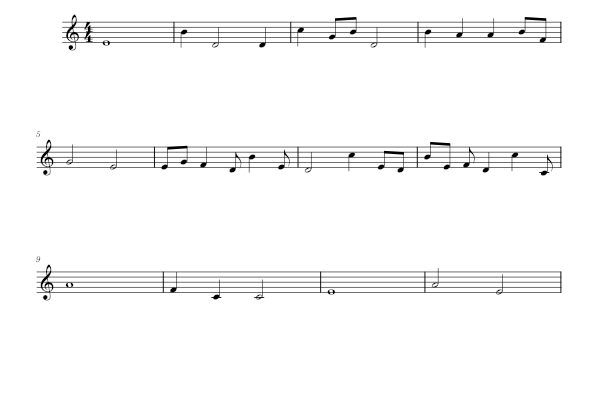Treble Clef: (61, 8, 81, 54), (36, 263, 58, 304), (36, 137, 57, 178)
